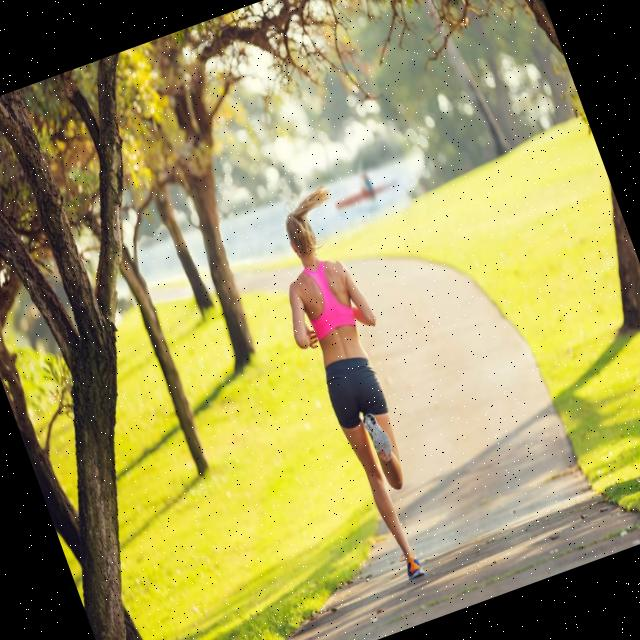Person: (249, 182, 466, 590)
